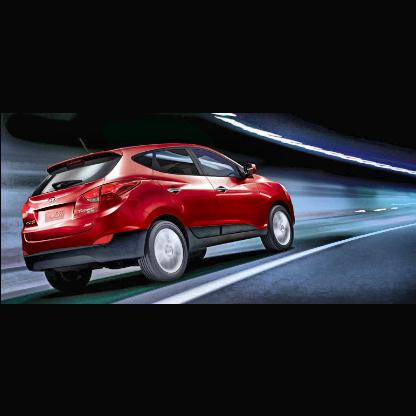Hyundai Tucson SUV 2012: (21, 142, 295, 283)
